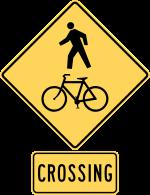Cycle Crossing: (14, 8, 134, 187)
